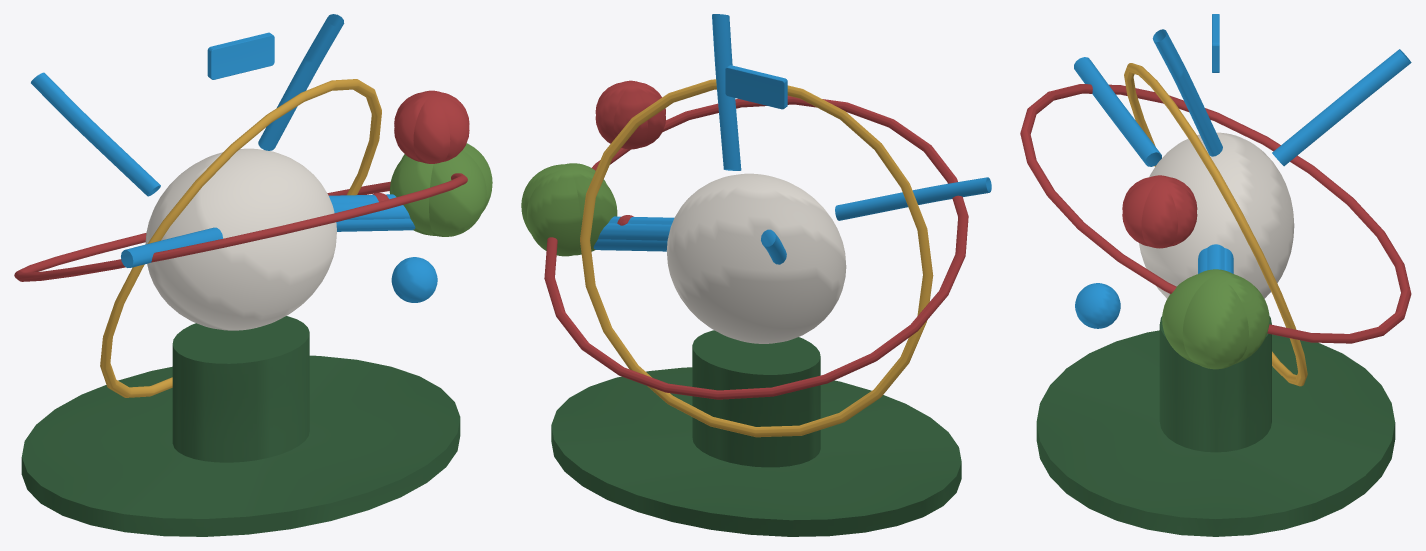
Rendered from 0511_生活中的化学图鉴_记忆合金.glb.
The picture shows the model from 3 angles, left to right: view 1: azimuth 30°, elevation 25°; view 2: azimuth 150°, elevation 25°; view 3: azimuth 270°, elevation 25°; orthographic projection. The views are drawn at different scales.
Parts seen in each view (by area): view 1: card_0511; view 2: card_0511; view 3: card_0511.
Boxes of the visible parts, box(x1,y1,x2,y2) form: card_0511: box(14, 14, 492, 536); card_0511: box(521, 14, 991, 536); card_0511: box(1020, 14, 1411, 536).
Bounding box in the file's own units: 1.07 × 1 × 0.8052.
